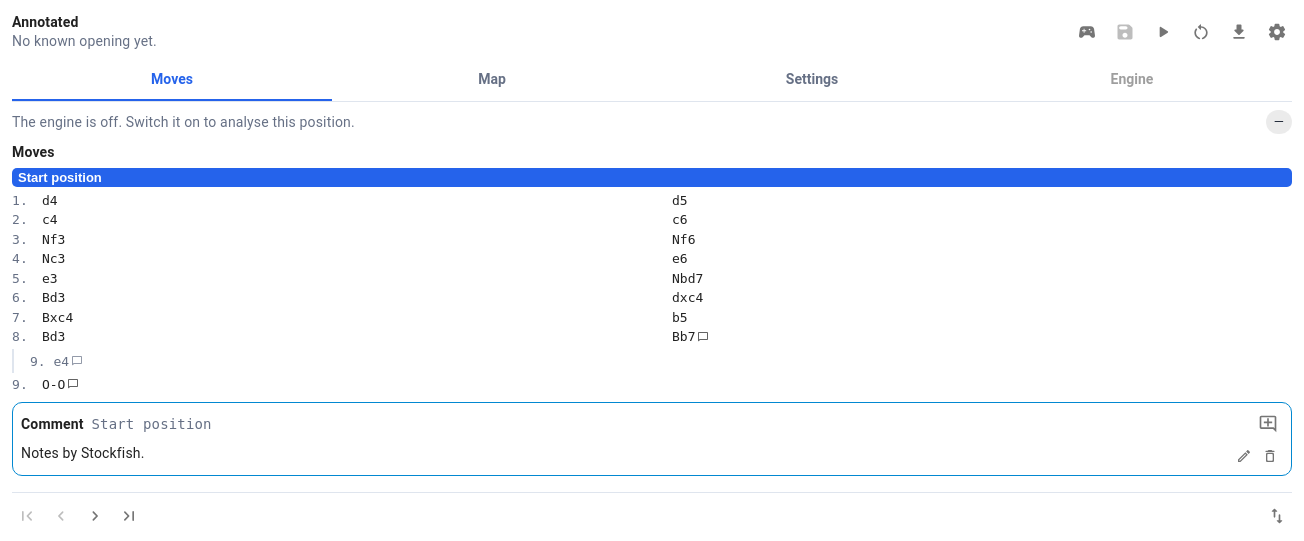
Scenario: the player's comment block › follows the reader, and is gone where nothing is annotated
expect the element with test id "repertoire-board-annotations" is shown: met, box [12, 402, 1292, 476]
Click the button with test id "move-ply-1" at (50, 200), box [36, 191, 662, 210]
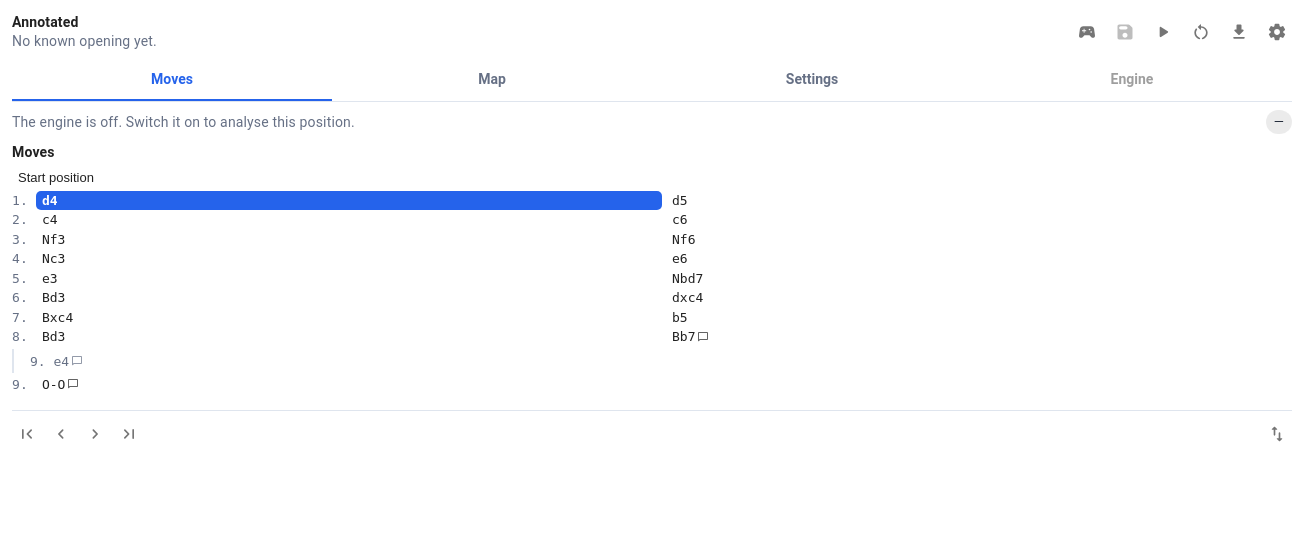
expect the element with test id "repertoire-board-annotations" is gone: met
